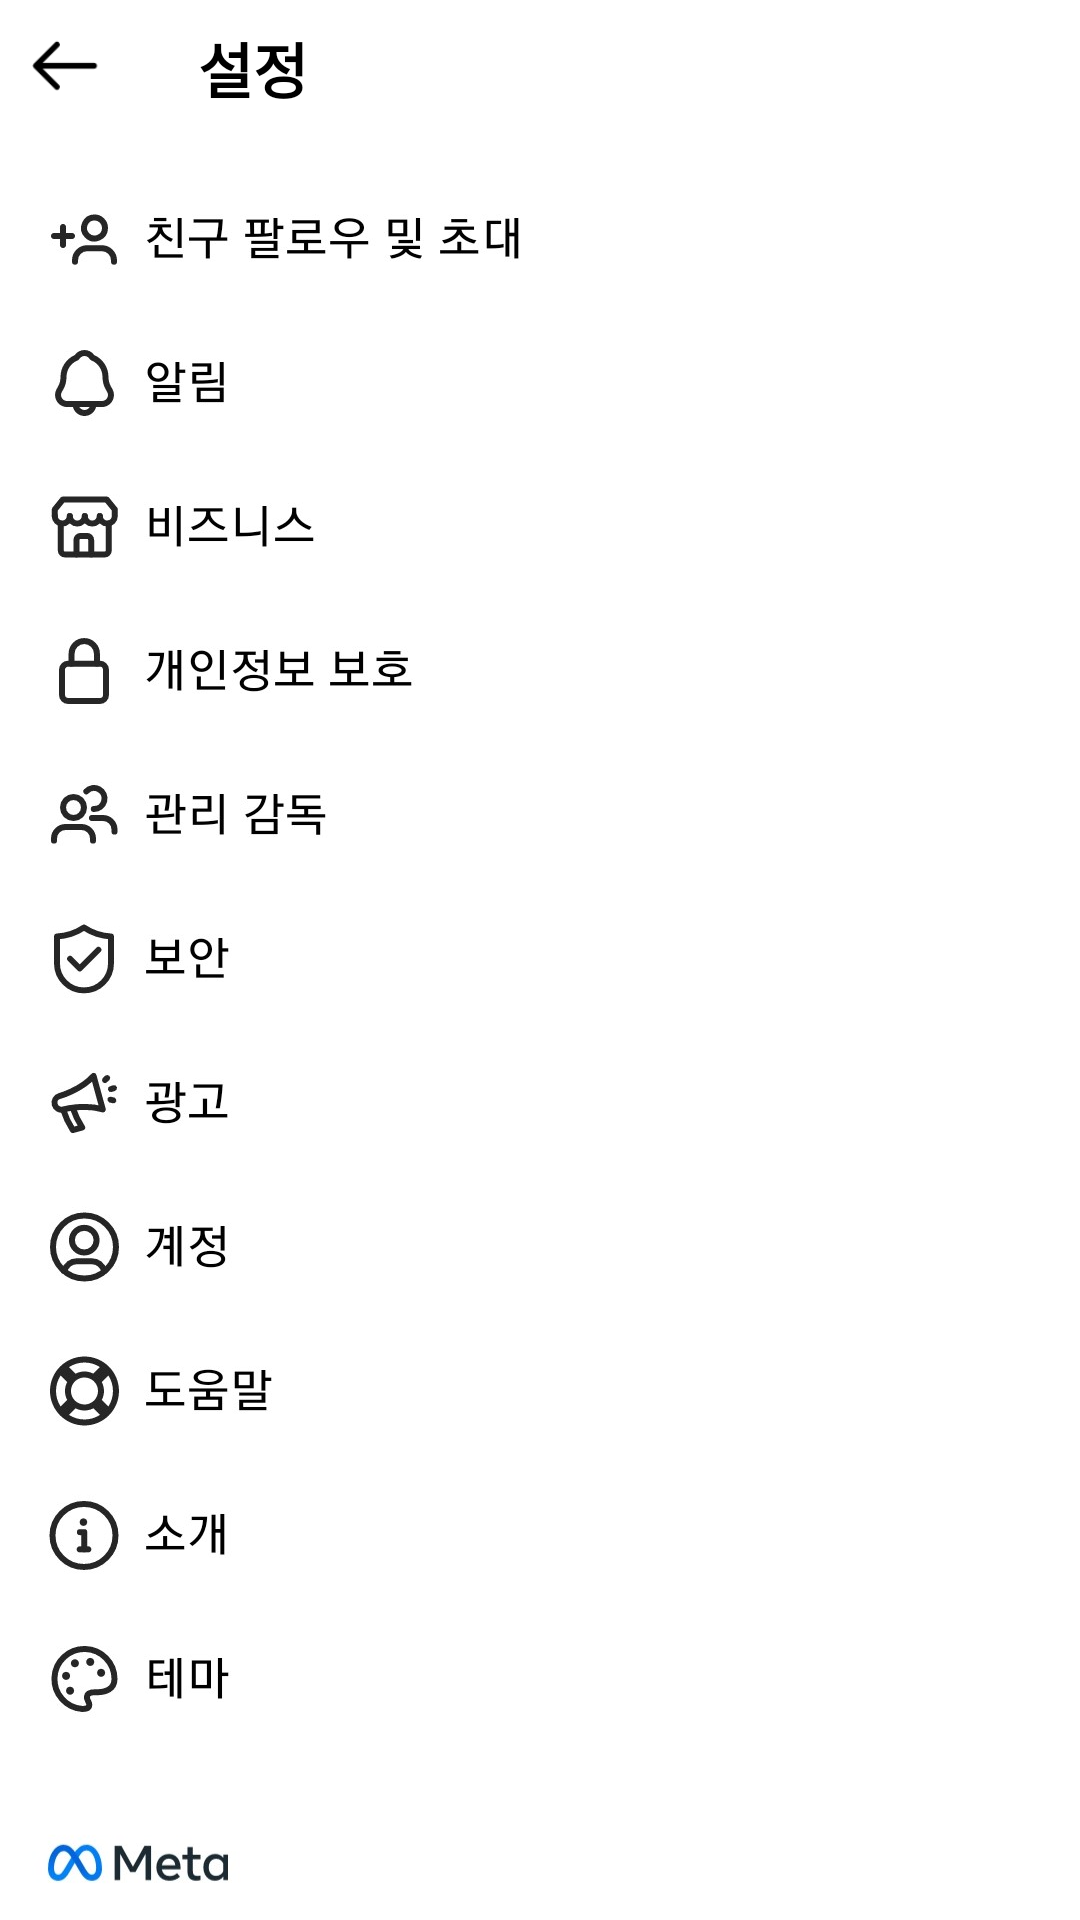

Named icons in this screenshot (1080*1920) and their centers, [x,y]:
back: [65,66]
